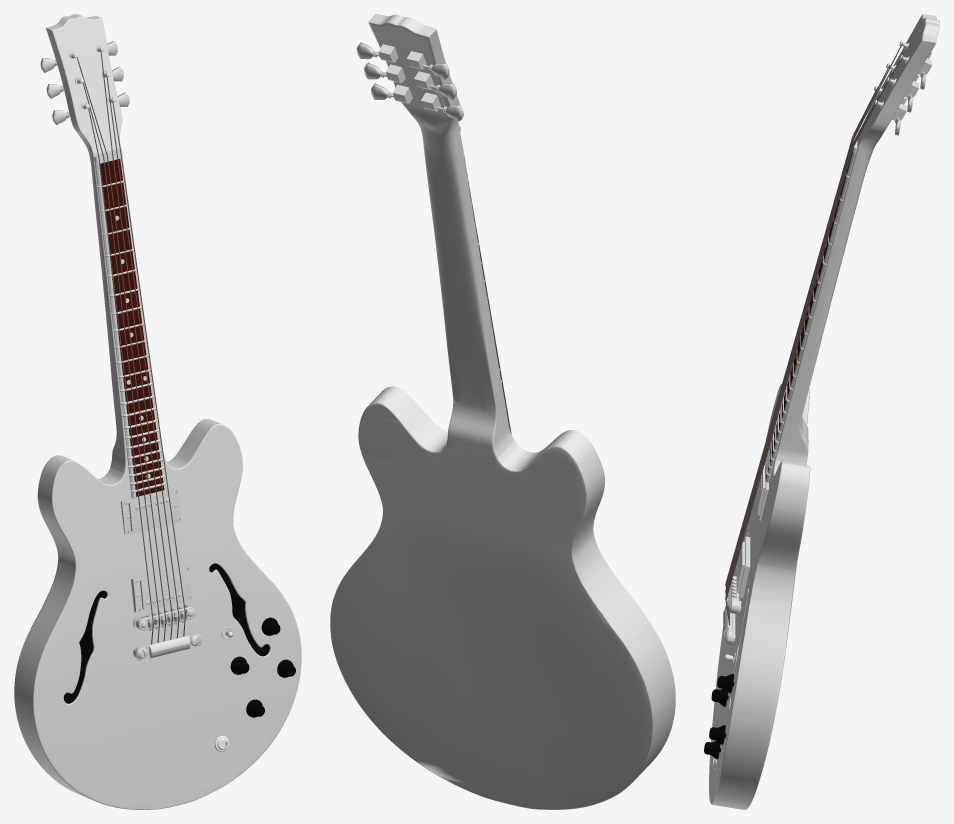
Rendered from 335whole OPT2.glb.
3 renders of one model, left to right at view 1: azimuth 30°, elevation 25°; view 2: azimuth 150°, elevation 25°; view 3: azimuth 270°, elevation 25°, orthographic. The views are drawn at different scales.
Visible parts, largest first — view 1: varnish, fretboard, strings, pickup_cover, fretbinding, tail_saddle, frets, UN_inside, pickup_ring, mechs, knobs; view 2: varnish, mechs; view 3: varnish, strings, fretbinding, mechs, knobs, fretboard, tail_saddle, frets, pickup_cover, pickup_ring.
Part boxes in pixels (x1,y1,x2,y2): varnish: (14,14,301,809); fretboard: (100,159,164,496); strings: (77,51,185,644); pickup_cover: (128,492,186,609); fretbinding: (95,156,166,498); tail_saddle: (133,603,201,660); frets: (97,179,166,492); UN_inside: (63,563,269,703); pickup_ring: (120,488,192,612); mechs: (40,41,129,124); knobs: (230,617,295,717); varnish: (330,14,675,809); mechs: (356,42,463,121); varnish: (709,14,939,809); strings: (725,42,902,625); fretbinding: (765,152,855,482); mechs: (874,41,932,135); knobs: (704,674,734,759); fretboard: (765,152,852,478); tail_saddle: (723,576,741,645); frets: (766,173,849,476); pickup_cover: (736,465,765,592); pickup_ring: (739,461,768,599).
Bounding box in the file's own units: 0.7737 × 1.98 × 0.5506.
